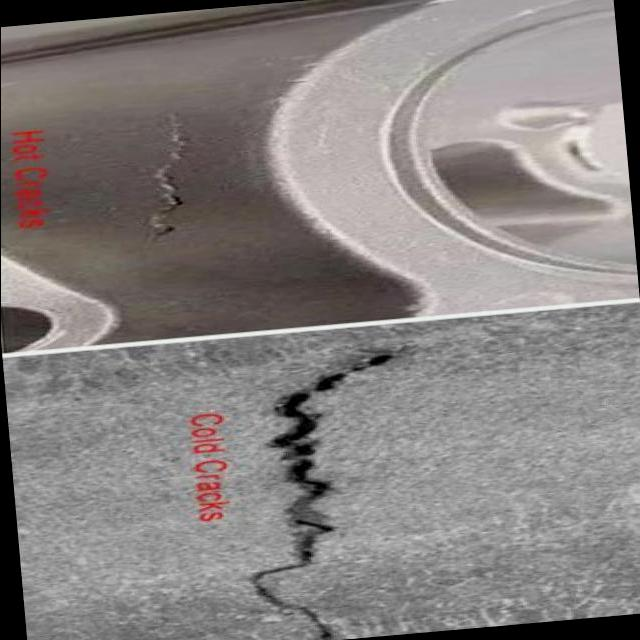defect: (245, 349, 415, 640), (135, 99, 192, 249)
